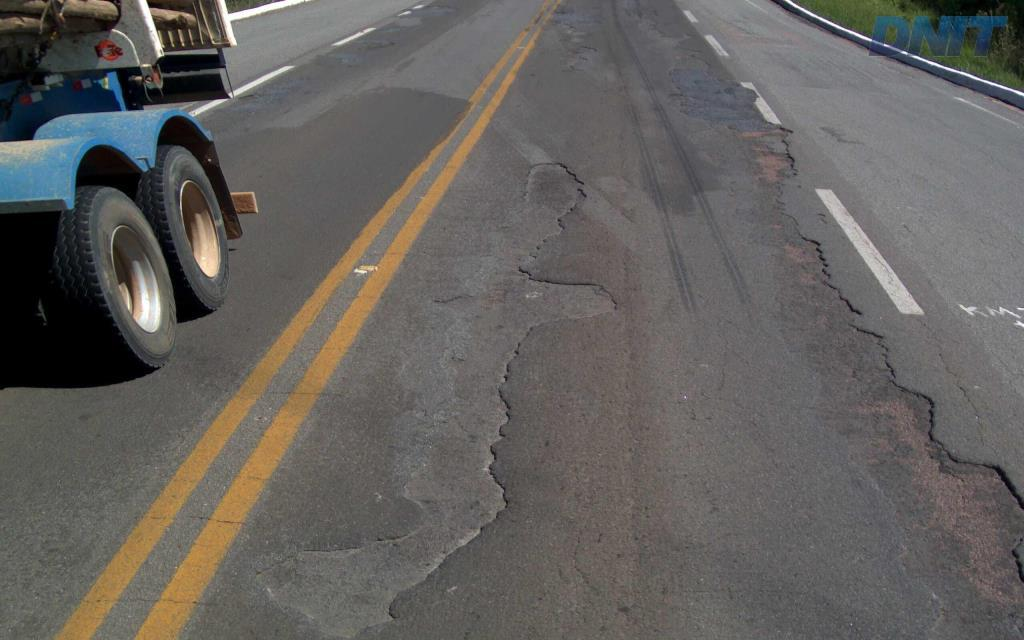pothole: (248, 156, 614, 638), (713, 106, 1022, 638)
